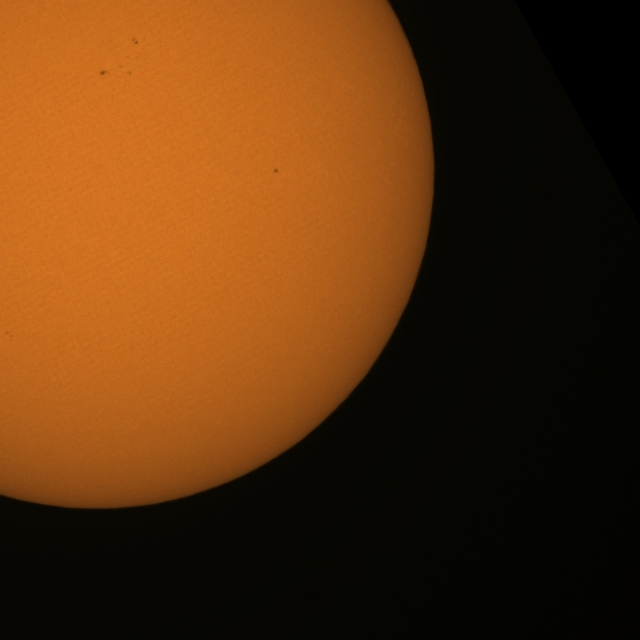sunspot: (4, 330, 14, 341), (99, 68, 109, 77), (131, 36, 139, 45), (272, 167, 279, 175), (127, 69, 133, 76)
